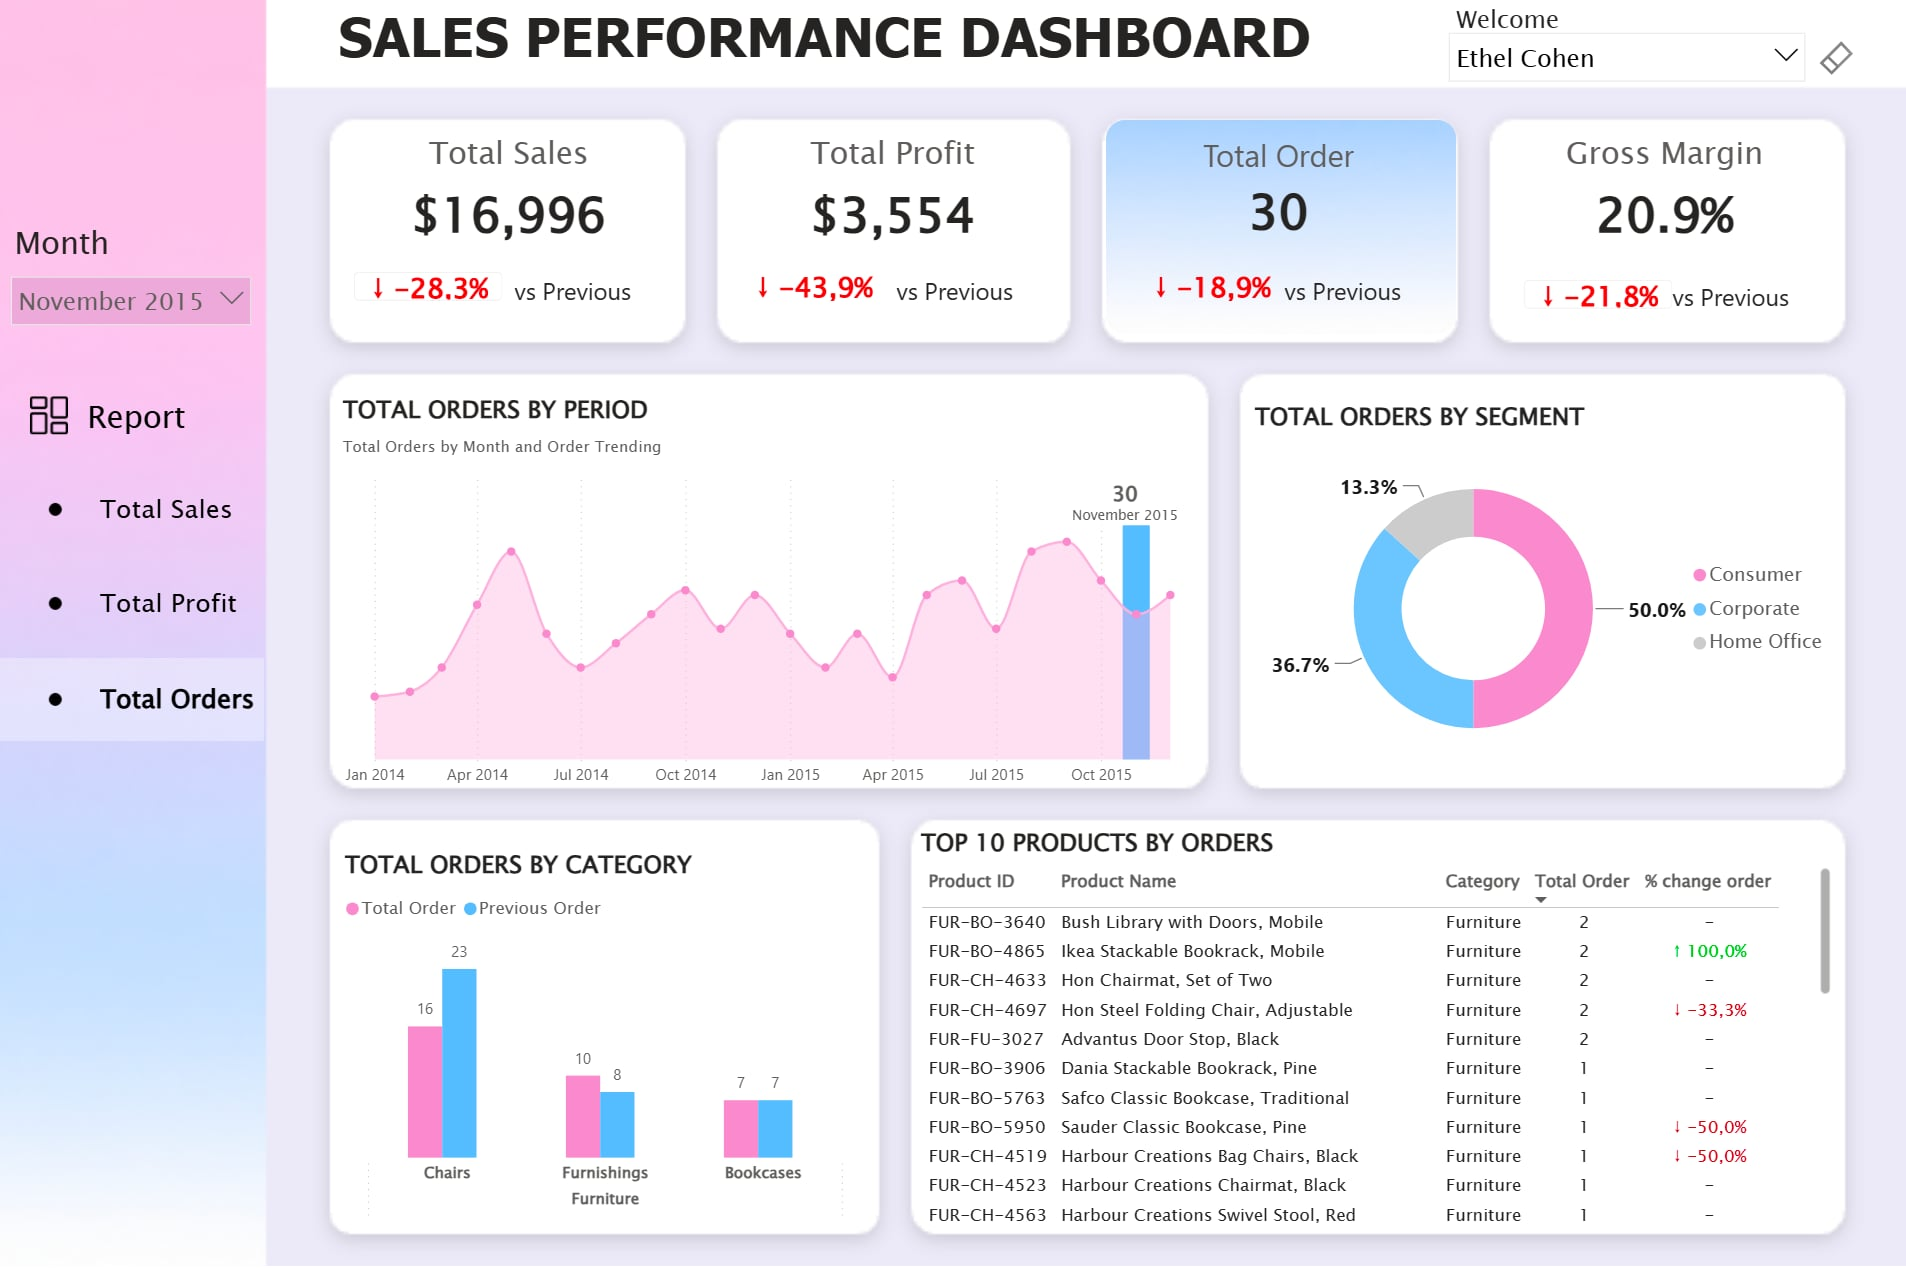

What the dashboard file says about the page in this screenshot:
{"tool":"powerbi","page":{"name":"Report","canvas":[1500,1000],"ordinal":0},"visuals":[{"type":"textbox","box":[262.6,0,846.7,63.6],"z":0,"group":"g7"},{"type":"cardVisual","fields":{"Data":["Measure.Total Sales"]},"box":[262.6,78.3,274.1,150.1],"z":0,"group":"g5"},{"type":"cardVisual","fields":{"Data":["Measure.Total Profit"]},"box":[565.8,78.3,274.1,150.1],"z":0,"group":"g2"},{"type":"cardVisual","fields":{"Data":["Measure.Total Order"]},"box":[868.6,78.3,274.1,150.1],"z":0,"group":"g3"},{"type":"cardVisual","fields":{"Data":["Measure.Gross Margin"]},"box":[1171.3,78.3,274.1,150.1],"z":0,"group":"g4"},{"type":"slicer","fields":{"Values":["Calendar.Order Month"]},"box":[0,171.3,208.8,96.2],"z":0},{"type":"lineClusteredColumnComboChart","title":"TOTAL SALES BY PERIOD","fields":{"Category":["Orders.Order Month"],"Y":["Measure.Total Sales"],"Y2":["Measure.All Sales"]},"box":[261.9,303.2,690.7,323.1],"z":0,"group":"g1"},{"type":"slicer","fields":{"Values":["Orders.Person"]},"box":[1128.8,19.6,300.2,52.2],"z":1000,"group":"g7"},{"type":"cardVisual","fields":{"Data":["Measure.% change sales"]},"box":[261.6,198.7,151.7,57.1],"z":1000,"group":"g5"},{"type":"cardVisual","fields":{"Data":["Measure.% change order"]},"box":[878.6,198.7,151.7,57.1],"z":1000,"group":"g3"},{"type":"cardVisual","fields":{"Data":["Measure.% change profit"]},"box":[565.3,199.9,151.7,57.1],"z":1000,"group":"g2"},{"type":"cardVisual","fields":{"Data":["Measure.% change gross margin"]},"box":[1180.5,205,151.7,57.1],"z":1000,"group":"g4"},{"type":"donutChart","title":"TOTAL SALES BY SEGMENT","fields":{"Category":["Orders.Segment"],"Y":["Measure.Total Sales"]},"box":[977.1,303.2,470.1,310.9],"z":1000,"group":"g1"},{"type":"actionButton","title":"Button orders","box":[0,519.3,208.8,65.3],"z":1000,"group":"g6"},{"type":"textbox","box":[1140.3,0,93,40.8],"z":2000,"group":"g7"},{"type":"textbox","box":[399.7,213.7,137,40.8],"z":2000,"group":"g5"},{"type":"textbox","box":[1005.6,213.7,137,40.8],"z":2000,"group":"g3"},{"type":"textbox","box":[700.5,213.8,137,40.8],"z":2000,"group":"g2"},{"type":"textbox","box":[1309.5,218.1,137,40.8],"z":2000,"group":"g4"},{"type":"clusteredColumnChart","title":"TOTAL SALES BY CATEGORY","fields":{"Category":["Orders.Category","Orders.Sub-Category"],"Y":["Measure.Total Sales","Measure.Previous Sales"]},"box":[263.4,655.4,424.2,310.9],"z":2000,"group":"g1"},{"type":"actionButton","title":"Button profit","box":[0,445.2,208.8,65.3],"z":3000,"group":"g6"},{"type":"tableEx","title":"TOP 10 PRODUCTS BY SALES","fields":{"Values":["Orders.Product ID","Orders.Product Name","Orders.Category","Measure.Total Sales","Measure.% change sales"]},"box":[719.3,651,728,316.5],"z":3000,"group":"g1"},{"type":"image","title":"2light sales","box":[262.3,97.2,275.1,168.7],"z":3500,"group":"g1"},{"type":"group","id":"g1","title":"Chart Sales","box":[261.9,97.2,1185.5,870.4],"z":4000},{"type":"actionButton","title":"Sales Active","box":[0,372.2,208.8,65.3],"z":4000,"group":"g6"},{"type":"group","id":"g2","title":"card profit","box":[565.3,78.3,274.6,178.7],"z":5000},{"type":"group","id":"g3","title":"card order","box":[868.6,78.3,274.1,177.5],"z":6000},{"type":"actionButton","title":"Button report","box":[0,297.1,208.8,65.3],"z":6000,"group":"g6"},{"type":"group","id":"g4","title":"card margin","box":[1171.3,78.3,275.2,183.8],"z":7000},{"type":"group","id":"g5","title":"card sales","box":[261.6,78.3,275.1,177.5],"z":8000},{"type":"group","id":"g6","title":"navigation","box":[0,297.1,209,361.2],"z":9000},{"type":"group","id":"g7","title":"header","box":[262.6,0,1166.4,71.8],"z":10000},{"type":"actionButton","box":[1426.1,31.7,38.7,35.2],"z":11000}]}

Visuals, with their boxes in screenshot pixels (x1, y1, x2, y2), scaled from the page's 1500x1000 canvas onto the 1906x1268 screenshot:
textbox: select_region(334, 0, 1410, 81)
cardVisual - Measure.Total Sales: select_region(334, 99, 682, 290)
cardVisual - Measure.Total Profit: select_region(719, 99, 1067, 290)
cardVisual - Measure.Total Order: select_region(1104, 99, 1452, 290)
cardVisual - Measure.Gross Margin: select_region(1488, 99, 1837, 290)
slicer - Calendar.Order Month: select_region(0, 217, 265, 339)
"TOTAL SALES BY PERIOD" lineClusteredColumnComboChart: select_region(333, 384, 1210, 794)
slicer - Orders.Person: select_region(1434, 25, 1816, 91)
cardVisual - Measure.% change sales: select_region(332, 252, 525, 324)
cardVisual - Measure.% change order: select_region(1116, 252, 1309, 324)
cardVisual - Measure.% change profit: select_region(718, 253, 911, 326)
cardVisual - Measure.% change gross margin: select_region(1500, 260, 1693, 332)
"TOTAL SALES BY SEGMENT" donutChart: select_region(1242, 384, 1839, 779)
"Button orders" actionButton: select_region(0, 658, 265, 741)
textbox: select_region(1449, 0, 1567, 52)
textbox: select_region(508, 271, 682, 323)
textbox: select_region(1278, 271, 1452, 323)
textbox: select_region(890, 271, 1064, 323)
textbox: select_region(1664, 277, 1838, 328)
"TOTAL SALES BY CATEGORY" clusteredColumnChart: select_region(335, 831, 874, 1225)
"Button profit" actionButton: select_region(0, 565, 265, 647)
"TOP 10 PRODUCTS BY SALES" tableEx: select_region(914, 825, 1839, 1227)
"2light sales" image: select_region(333, 123, 683, 337)
"Chart Sales" group: select_region(333, 123, 1839, 1227)
"Sales Active" actionButton: select_region(0, 472, 265, 555)
"card profit" group: select_region(718, 99, 1067, 326)
"card order" group: select_region(1104, 99, 1452, 324)
"Button report" actionButton: select_region(0, 377, 265, 460)
"card margin" group: select_region(1488, 99, 1838, 332)
"card sales" group: select_region(332, 99, 682, 324)
"navigation" group: select_region(0, 377, 266, 835)
"header" group: select_region(334, 0, 1816, 91)
actionButton: select_region(1812, 40, 1861, 85)
